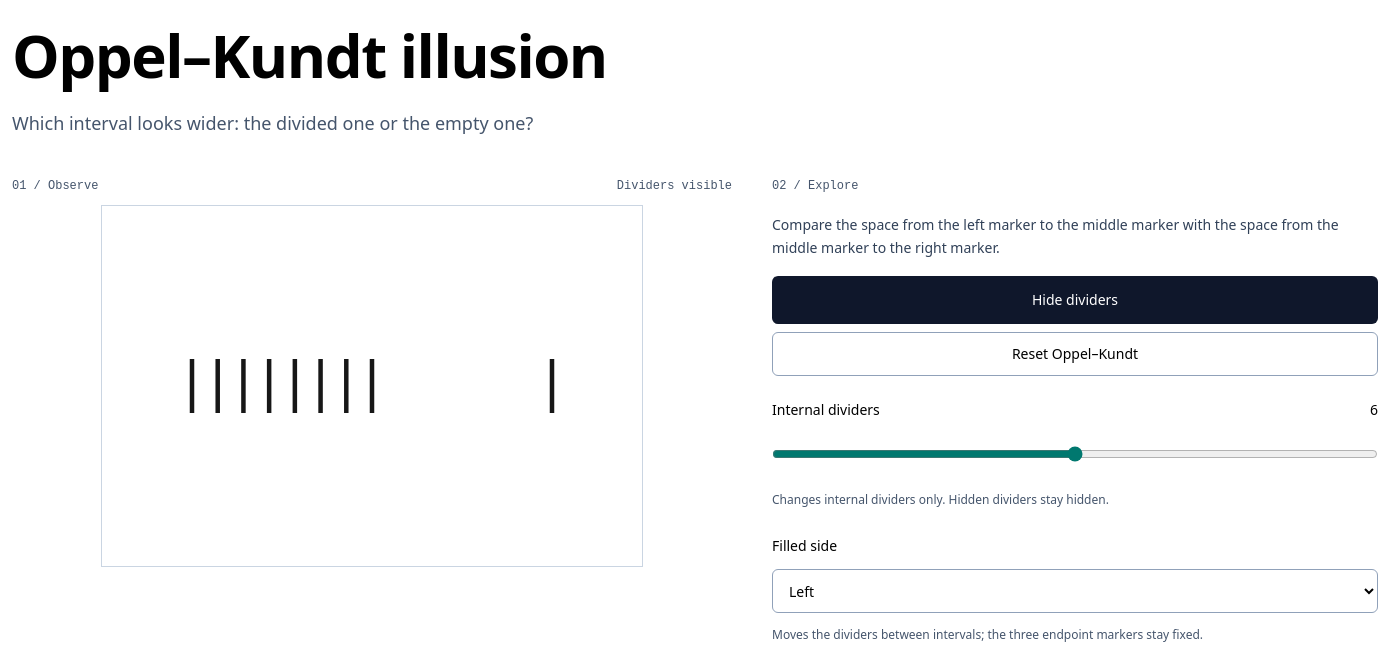
Test: describes zero dividers truthfully before and after hiding, including hidden count changes without stale status
Set the slider labelled "Internal dividers" to "0" at (780, 454), box [772,432,1378,476]
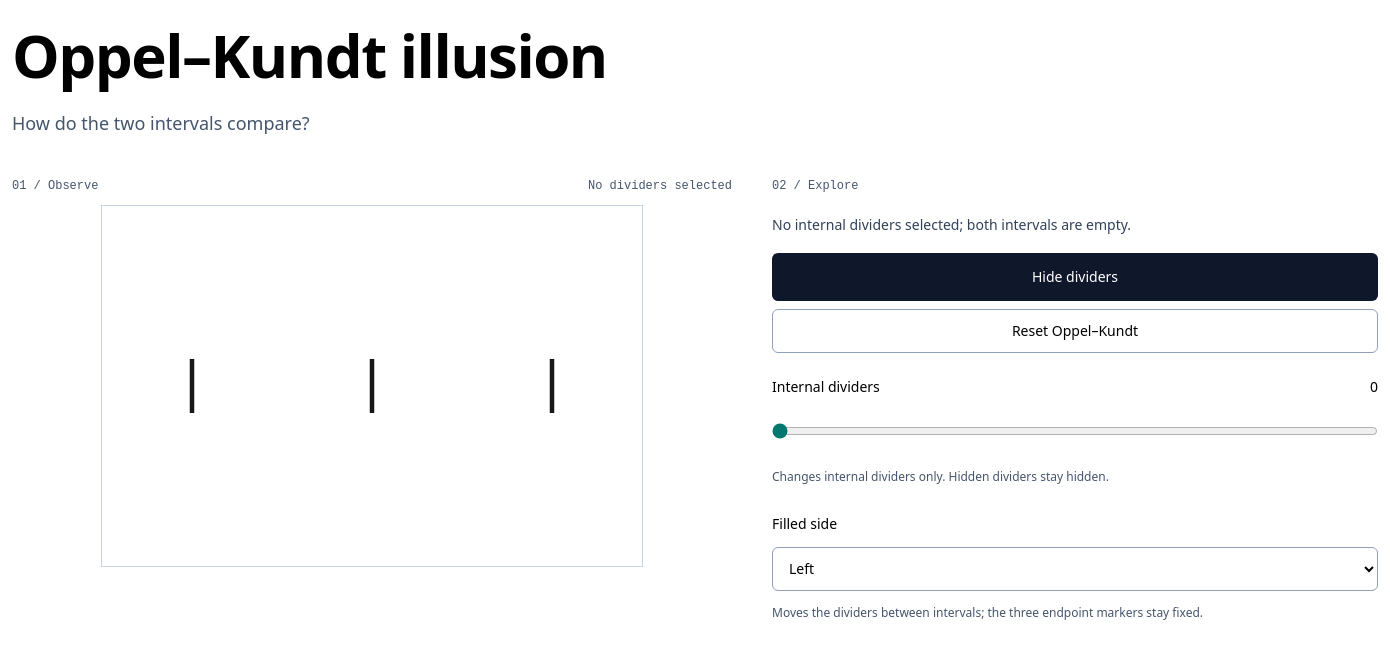
Now the text "How do the two intervals compare?" is shown, box [12,111,310,135]
Now the text "No internal dividers selected; both intervals are empty." is shown, box [772,215,1131,234]
Click the button "Hide dividers".
click(1075, 277)  # box [772,253,1378,301]
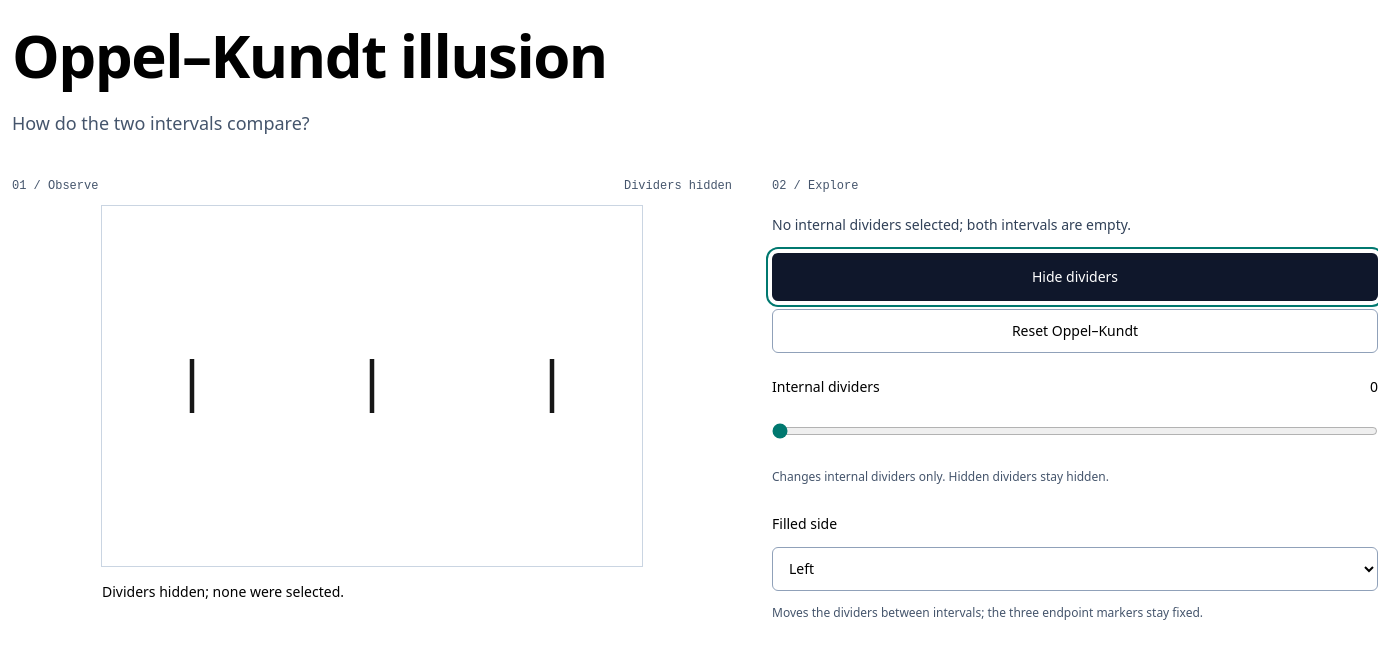
Set the slider labelled "Internal dividers" to "6" at (1075, 431), box [772,409,1378,453]
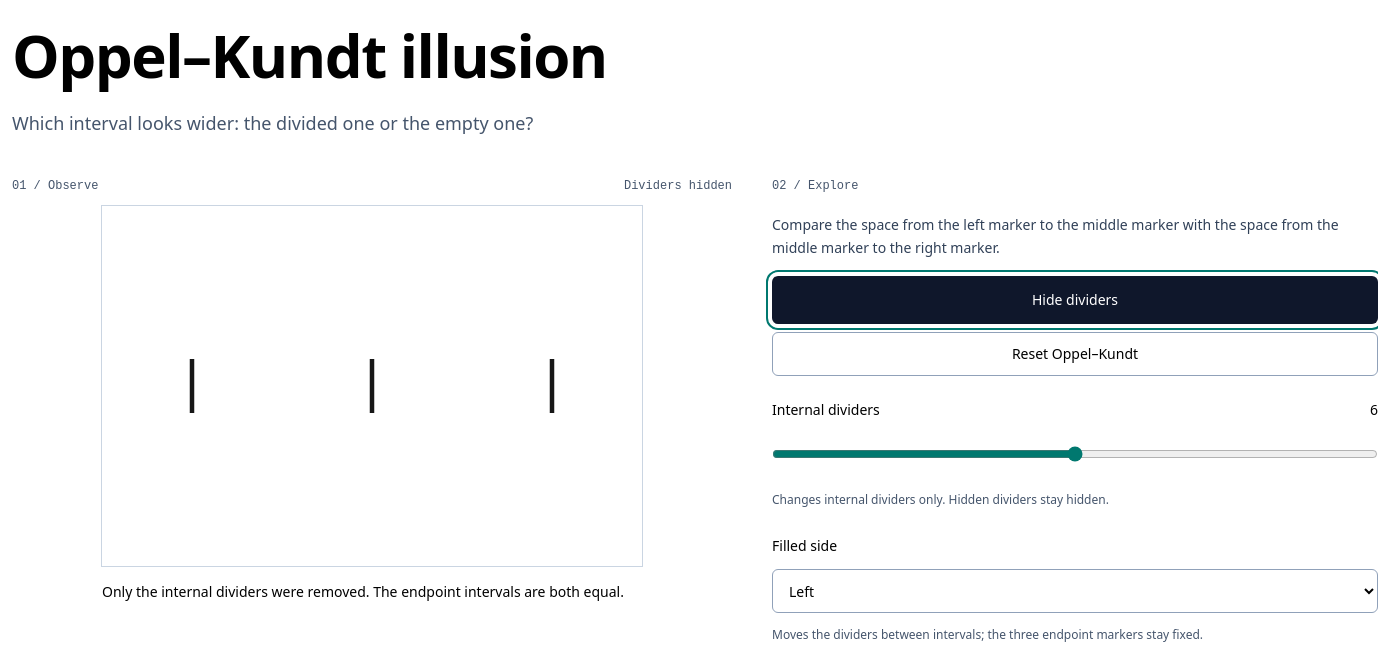
Now the text "Which interval looks wider: the divided one or the empty one?" is shown, box [12,111,533,135]
Now the text "Dividers hidden; none were selected." is gone
Set the slider labelled "Internal dividers" to "0" at (780, 454), box [772,432,1378,476]
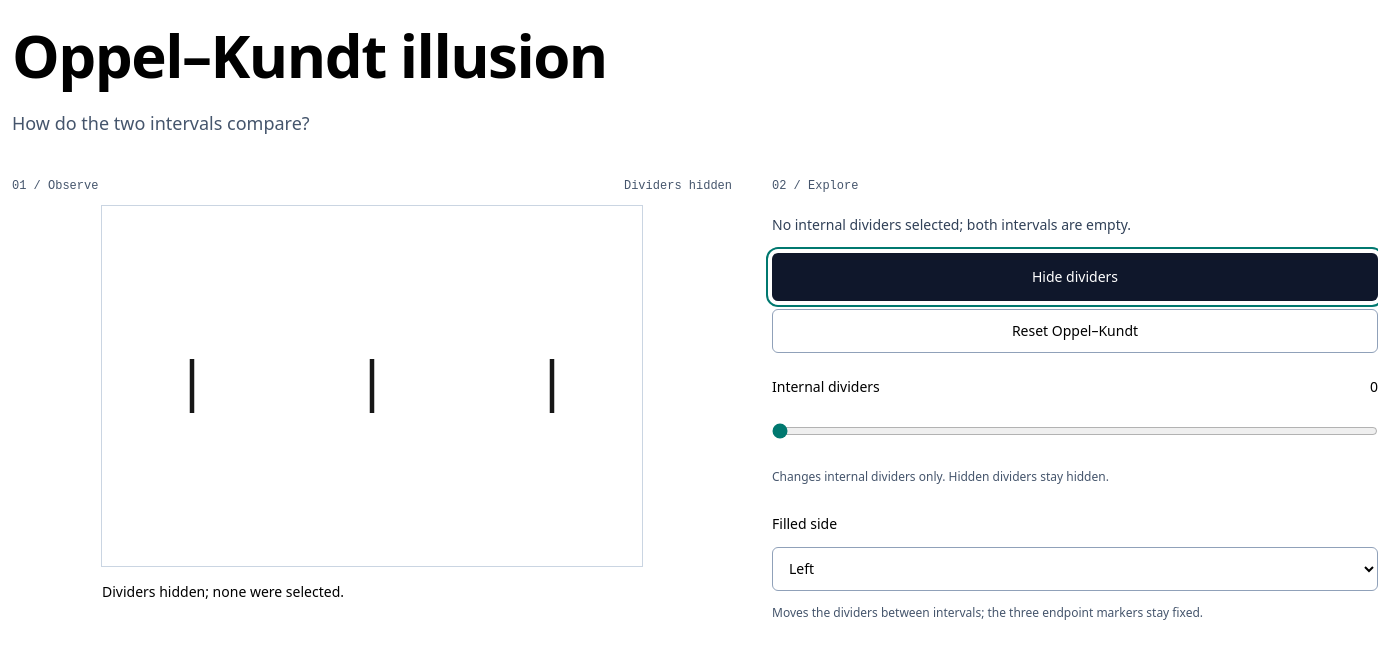
Now the text "Only the internal dividers were removed. The endpoint intervals are both equal." is gone
Now the text "Dividers hidden; none were selected." is shown, box [102,582,344,601]
Select "Right" in the dropdown labelled "Filled side" at (1075, 568), box [772,546,1378,590]
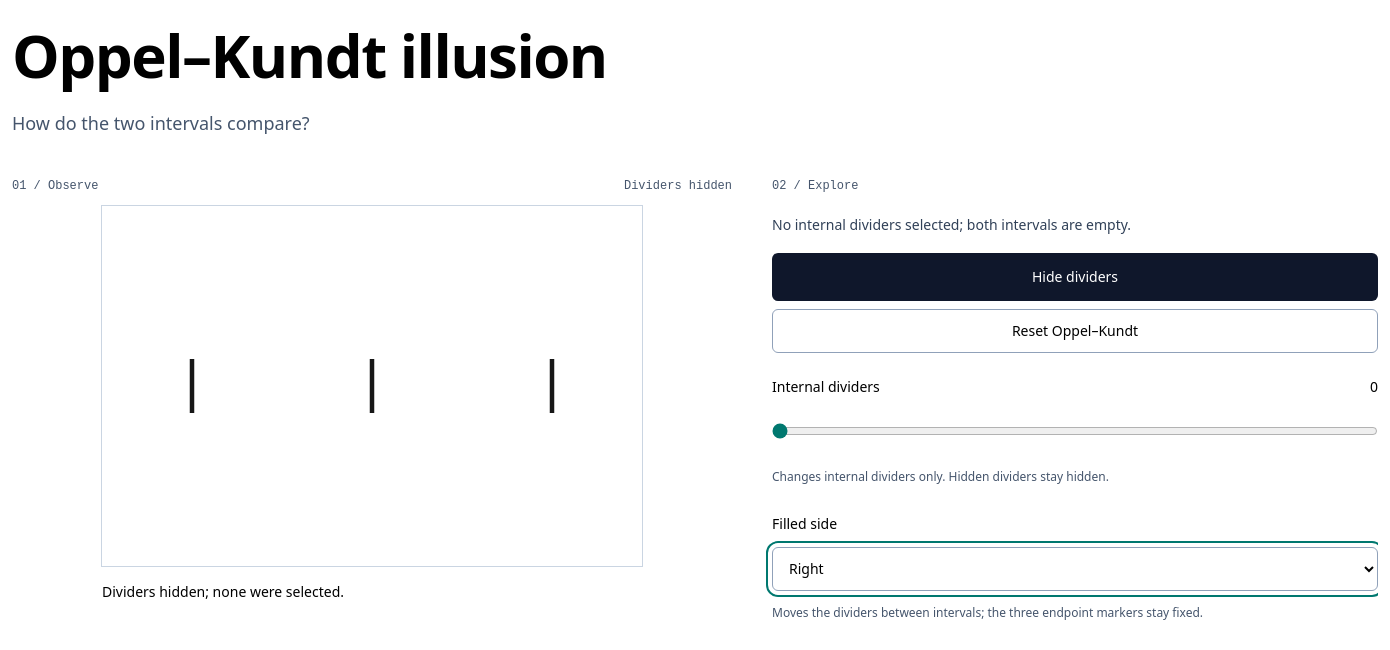
Now the text "Dividers hidden; none were selected." is shown, box [102,582,344,601]
Click the button "Hide dividers".
click(1075, 277)  # box [772,253,1378,301]
(page scrolled)
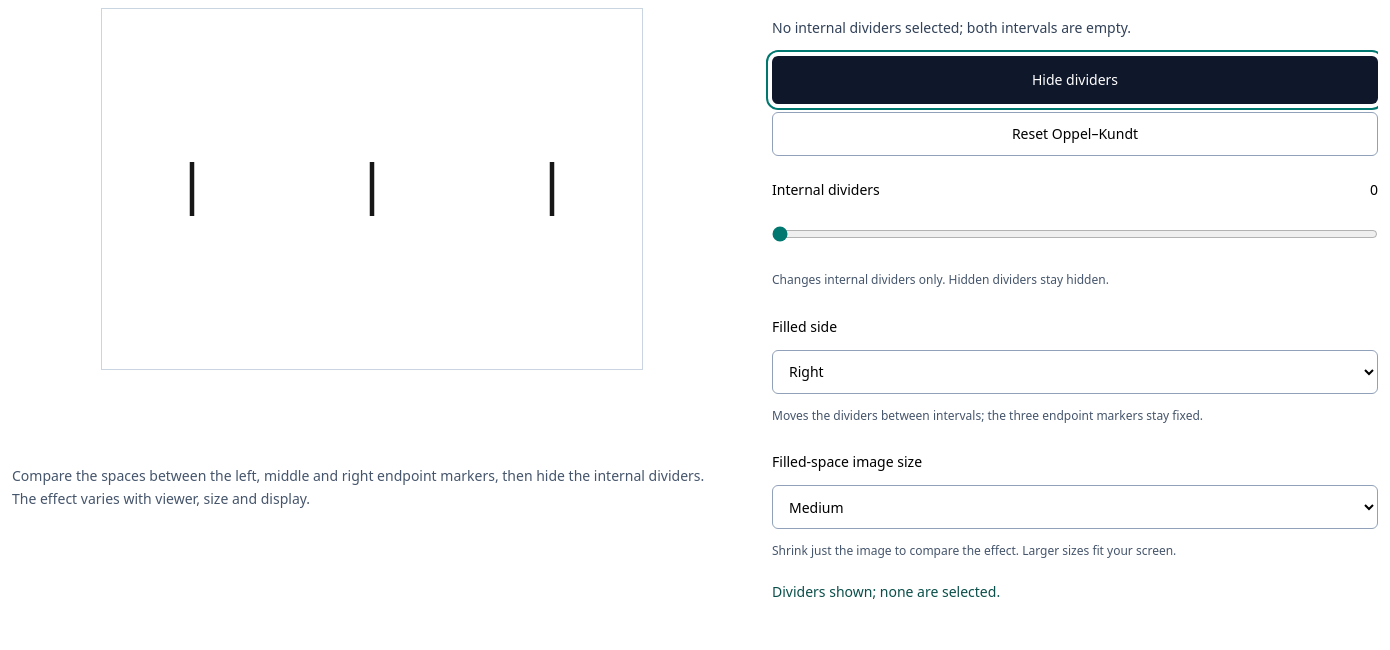
Now the text "Dividers hidden; none were selected." reads "Dividers shown; none are selected.", box [772,582,1000,600]
